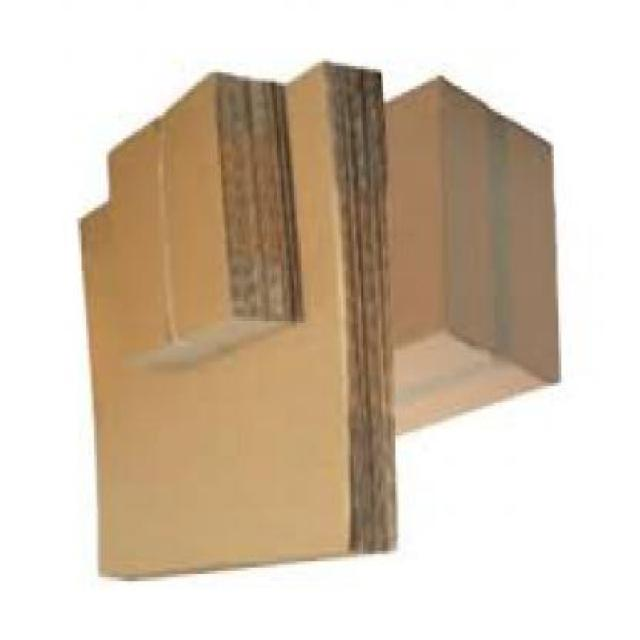CARDBOARD: (76, 66, 398, 583), (380, 80, 558, 442), (104, 75, 299, 380)
